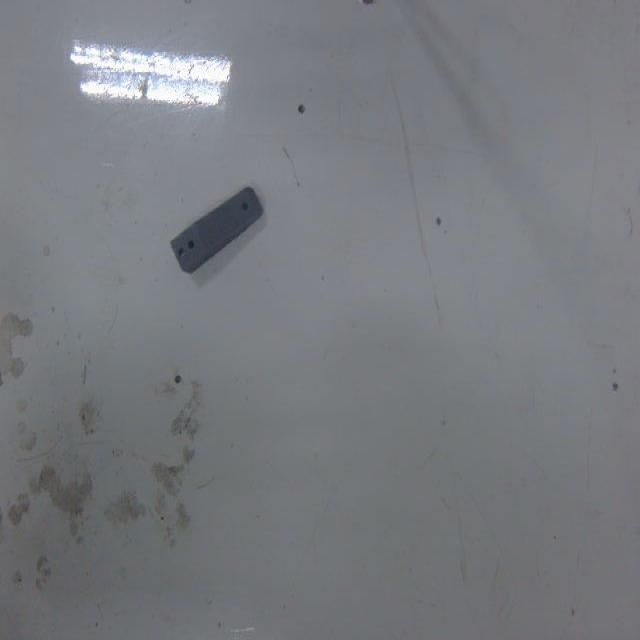grey: (172, 182, 267, 279)
head: (241, 200, 249, 213)
